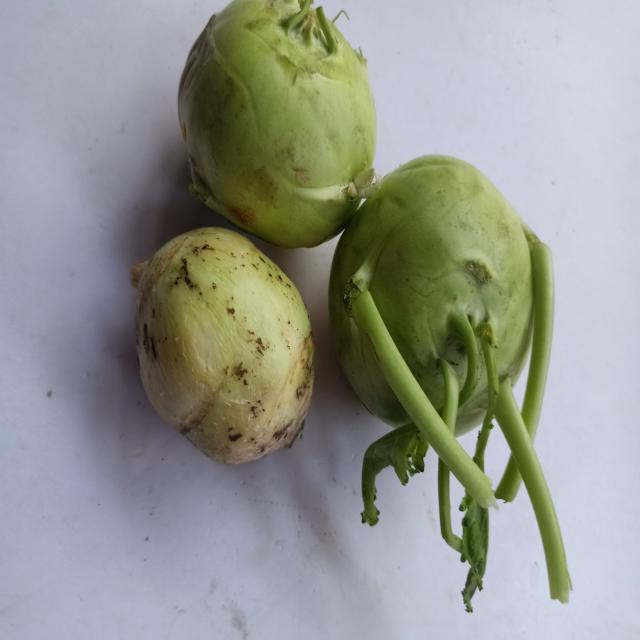Turnip: (324, 141, 580, 627), (121, 207, 324, 492), (164, 0, 384, 255)
